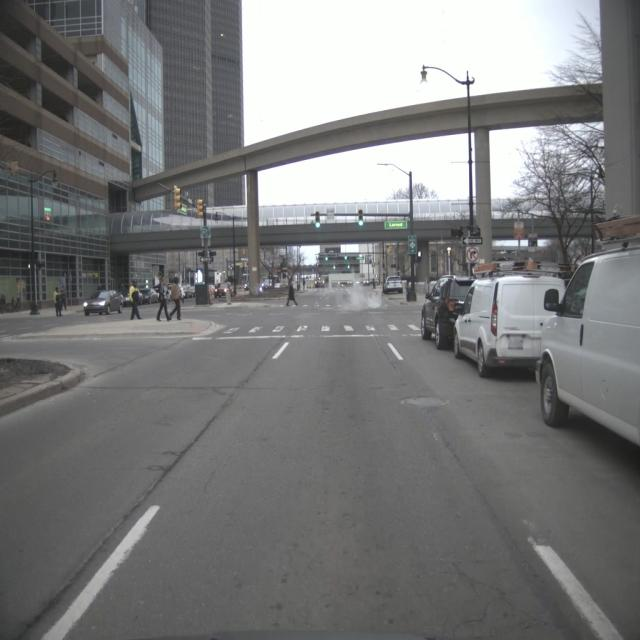humans: (157, 276, 171, 323), (129, 277, 143, 320), (171, 275, 183, 322), (54, 285, 63, 317), (287, 282, 297, 308), (302, 276, 307, 292)
